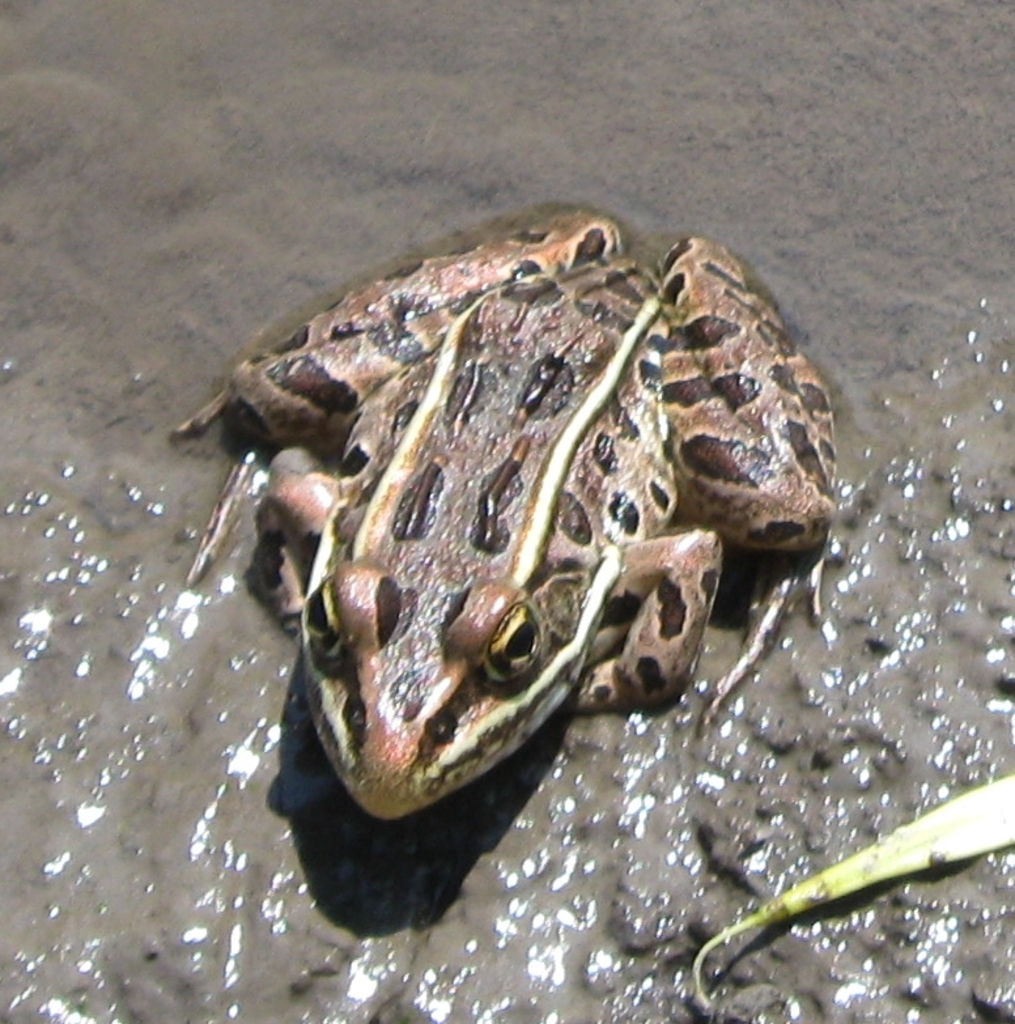Frog: (219, 206, 836, 821)
